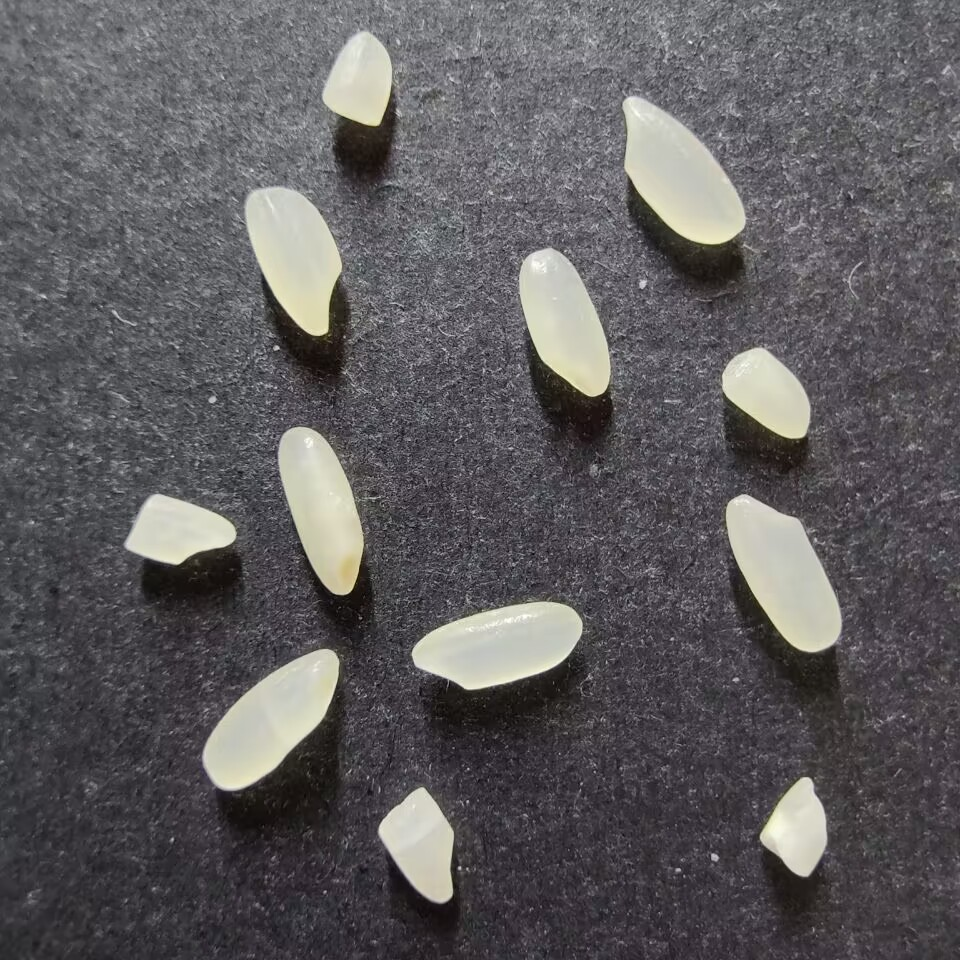broken: (376, 785, 457, 904), (720, 347, 811, 439), (123, 494, 237, 564), (758, 776, 828, 878), (321, 32, 392, 127)
rice: (201, 648, 338, 791), (620, 95, 746, 244), (725, 493, 842, 653), (411, 601, 583, 690), (276, 426, 364, 596), (243, 186, 342, 336), (517, 248, 611, 398)
